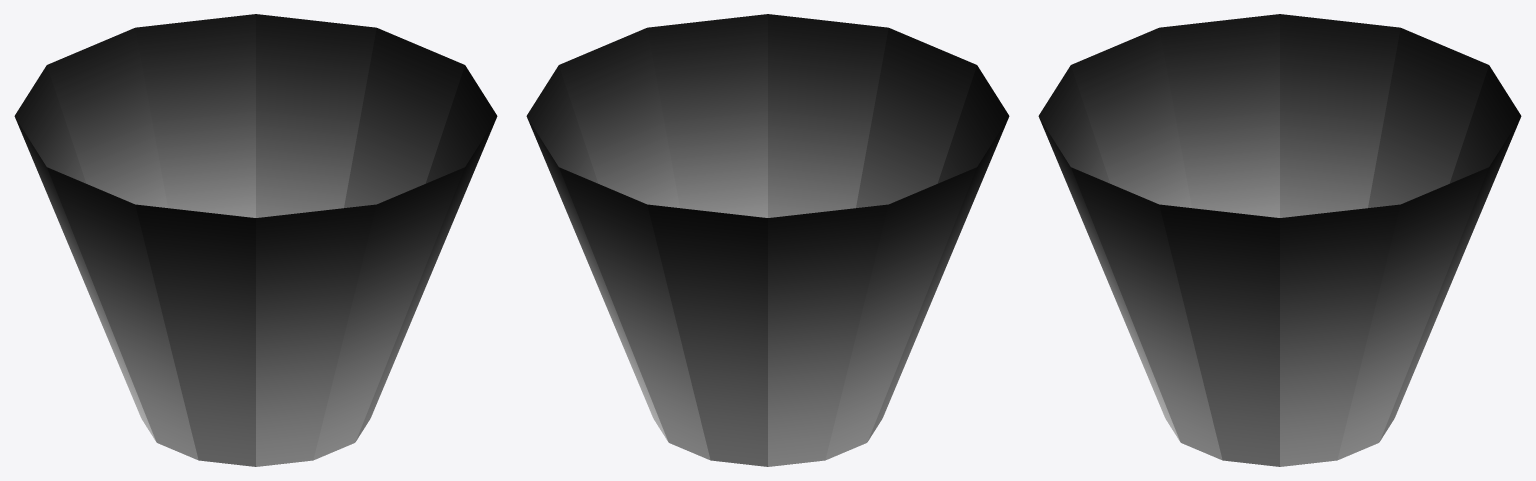
File: volume-rays01.fbx
3 renders of one model, left to right at view 1: azimuth 30°, elevation 25°; view 2: azimuth 150°, elevation 25°; view 3: azimuth 270°, elevation 25°, orthographic.
Visible parts, largest first — view 1: Xrays01; view 2: Xrays01; view 3: Xrays01.
Boxes of the visible parts, x1,y1,x2,y2 form: Xrays01: (14,14,497,466); Xrays01: (526,14,1009,466); Xrays01: (1038,14,1521,466).
Size of the model in its own units: 289 by 200 by 289.
